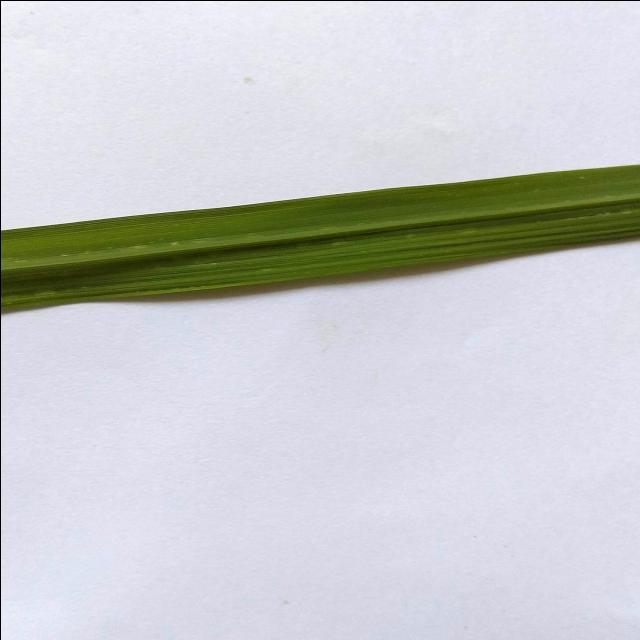healthy: (0, 135, 640, 322)
